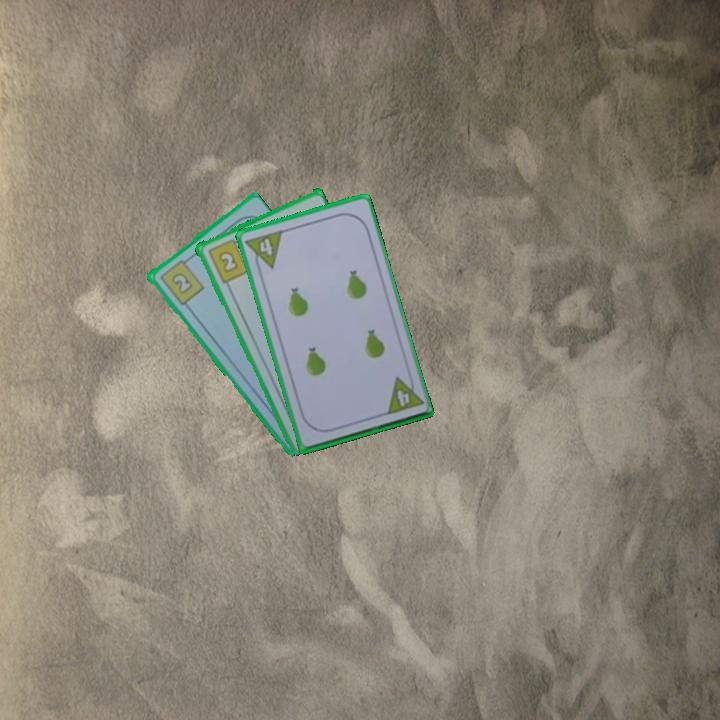2b: (156, 254, 206, 308), (204, 235, 251, 286)
4p: (242, 226, 285, 275), (382, 371, 425, 417)
